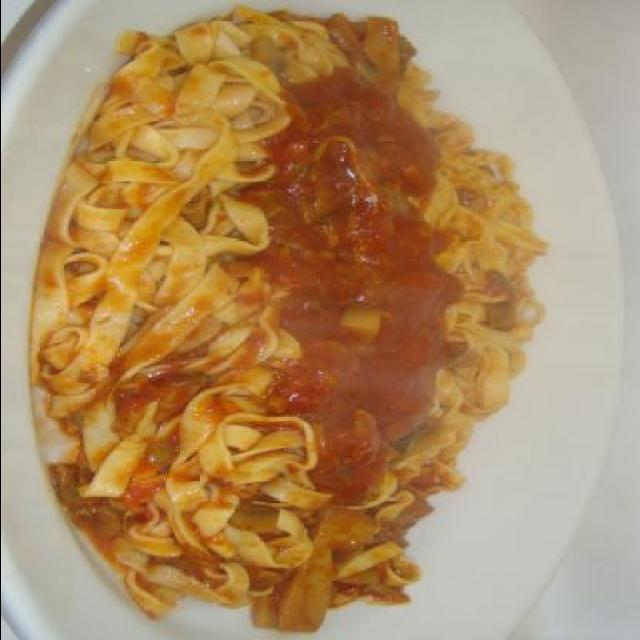Pasta al ragu: (37, 12, 591, 636)
